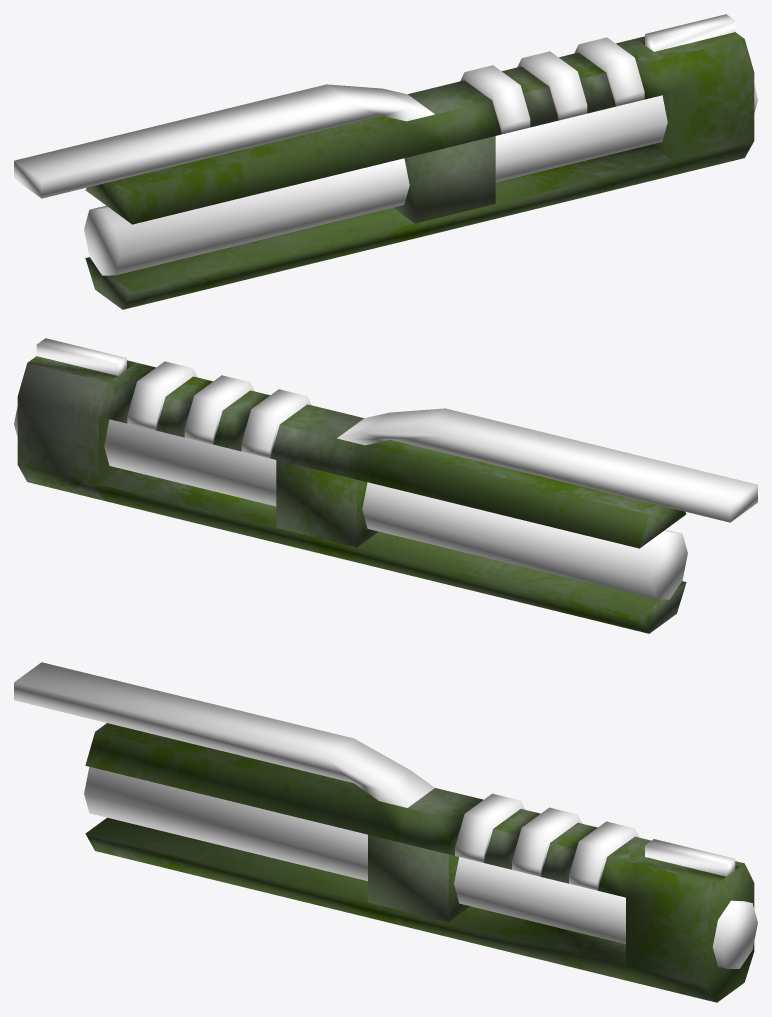
The model's file is Canon2.obj.
The picture shows the model from 3 angles, top to bottom: view 1: azimuth 30°, elevation 25°; view 2: azimuth 150°, elevation 25°; view 3: azimuth 330°, elevation 25°; orthographic projection.
Visible parts, largest first — view 1: Cylinder; view 2: Cylinder; view 3: Cylinder.
Boxes of the visible parts, box(x1,y1,x2,y2) form: Cylinder: box(14, 14, 757, 309); Cylinder: box(14, 338, 757, 633); Cylinder: box(14, 662, 757, 1002).
Bounding box in the file's own units: 7.91 × 1.58 × 0.9044.
